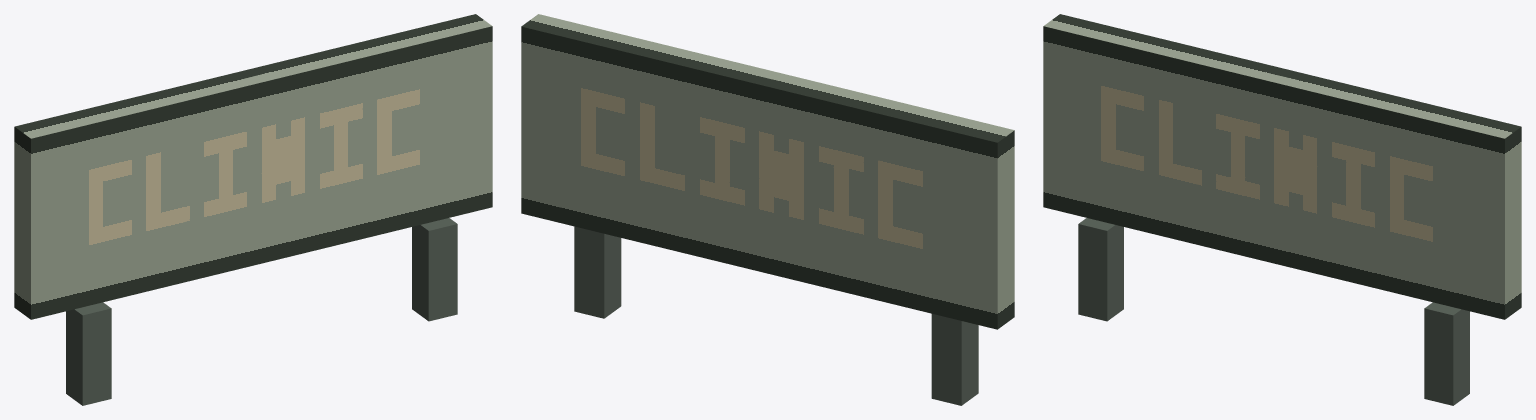
The model's file is sign_clinic.gltf.
3 renders of one model, left to right at view 1: azimuth 30°, elevation 25°; view 2: azimuth 150°, elevation 25°; view 3: azimuth 330°, elevation 25°, orthographic. The views are drawn at different scales.
Visible parts, largest first — view 1: signboard, support (×2); view 2: signboard, support (×2); view 3: signboard, support (×2).
Boxes of the visible parts, box(x1,y1,x2,y2) form: signboard: box(14, 14, 492, 319); support (×2): box(66, 218, 457, 405); signboard: box(521, 14, 1014, 329); support (×2): box(574, 226, 978, 405); signboard: box(1043, 14, 1521, 319); support (×2): box(1078, 218, 1469, 405).
Size of the model in its own units: 2 by 1.12 by 0.1875.
2 materials, 2 textured.
